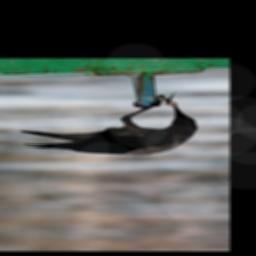Crow: (18, 99, 198, 156)
